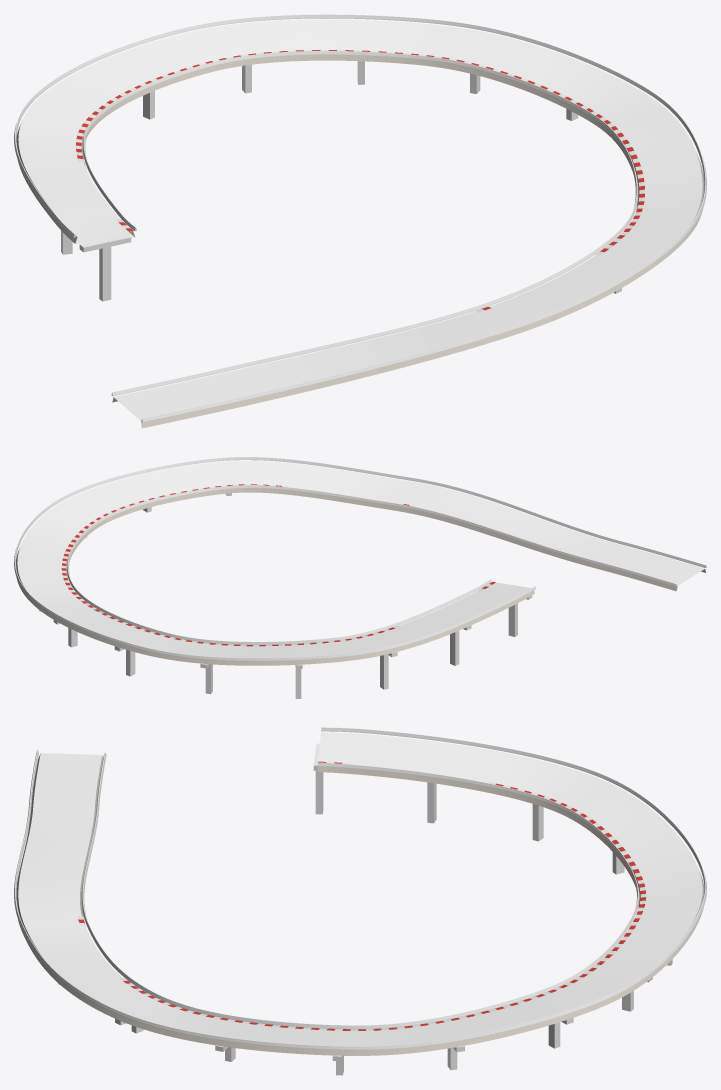
The model's file is SM_RiyadhNights_Track_03.fbx.
The picture shows the model from 3 angles, top to bottom: view 1: azimuth 30°, elevation 25°; view 2: azimuth 150°, elevation 25°; view 3: azimuth 270°, elevation 25°; orthographic projection. The views are drawn at different scales.
Visible parts, largest first — view 1: SM_RiyadhNights_Track_03; view 2: SM_RiyadhNights_Track_03; view 3: SM_RiyadhNights_Track_03.
Part boxes in pixels (bbox=[...]): SM_RiyadhNights_Track_03: bbox=[14, 14, 706, 428]; SM_RiyadhNights_Track_03: bbox=[14, 457, 706, 698]; SM_RiyadhNights_Track_03: bbox=[14, 727, 706, 1075].
Bounding box in the file's own units: 17668 × 1776 × 15733.
